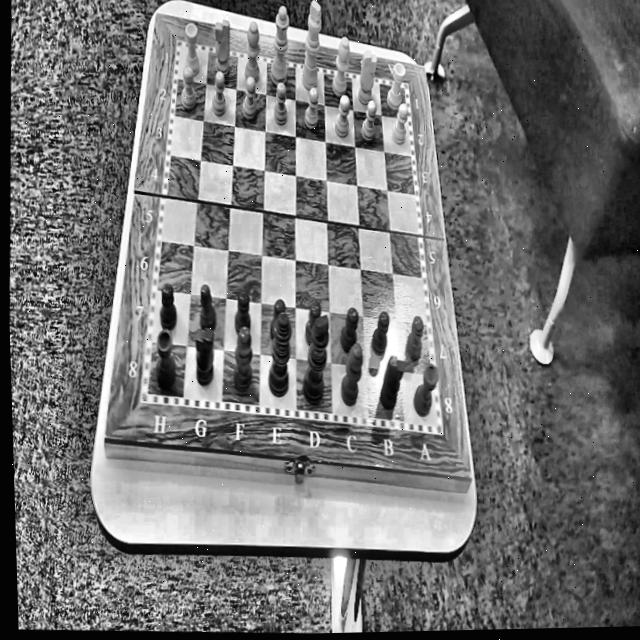chessboard: (148, 47, 436, 423)
